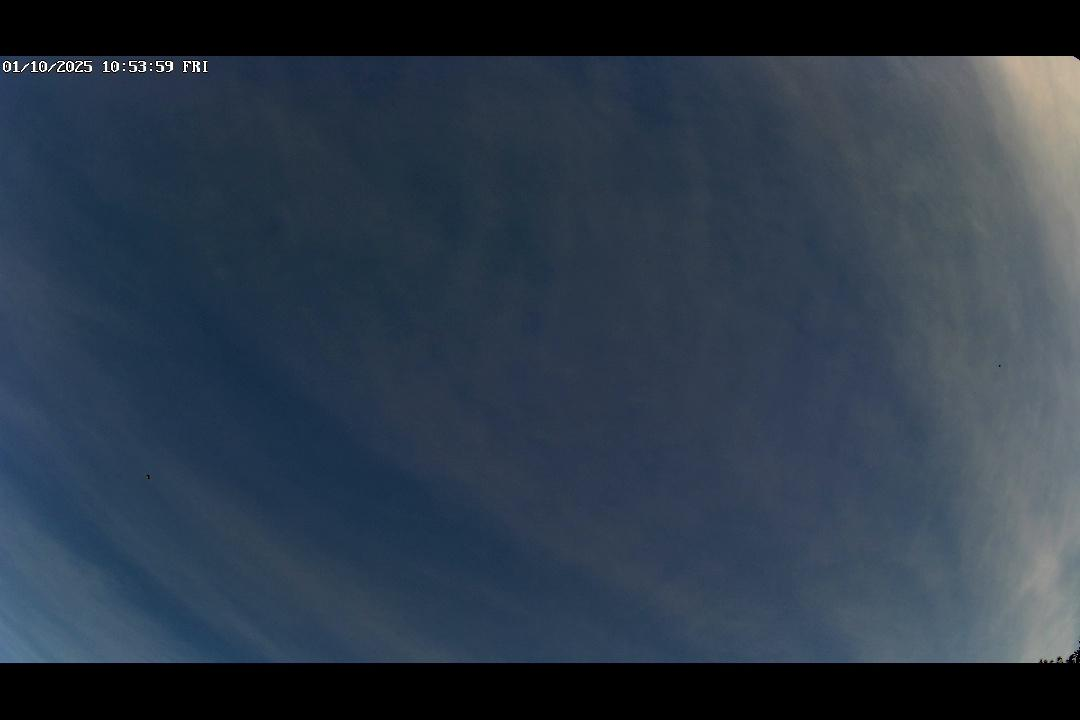WildLife: (135, 467, 162, 488), (996, 359, 1008, 372)
